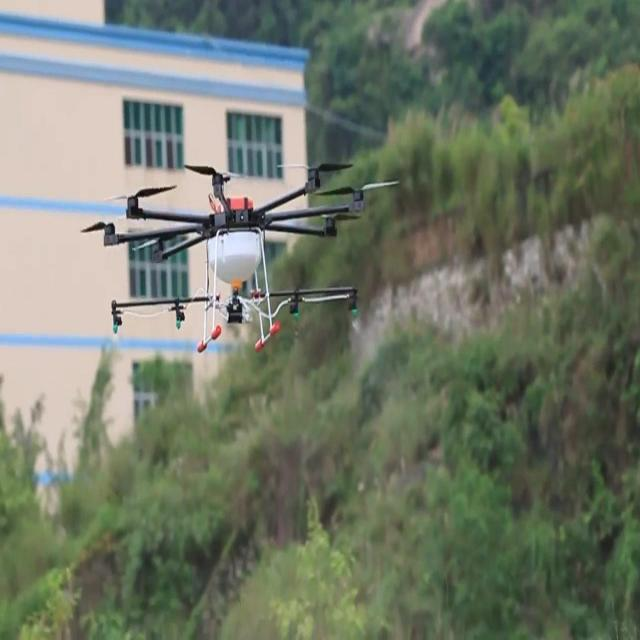UAV: (81, 165, 399, 352)
